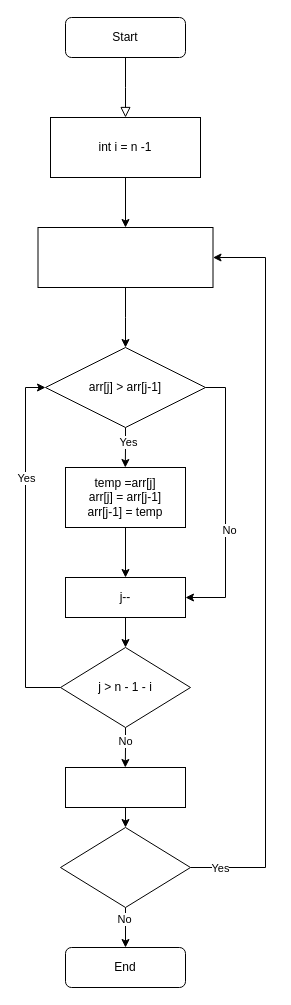
This 291x1005 diagram has some shape labels left out. The centre of each missing label's shape, as x and y in pixels:
i > 0: [125,867]
i--: [125,787]
int j = n -1: [125,257]
